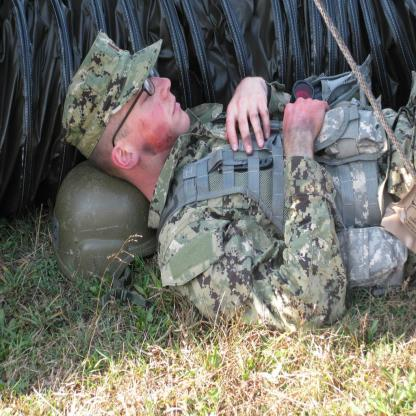Helmet: (50, 159, 158, 309)
